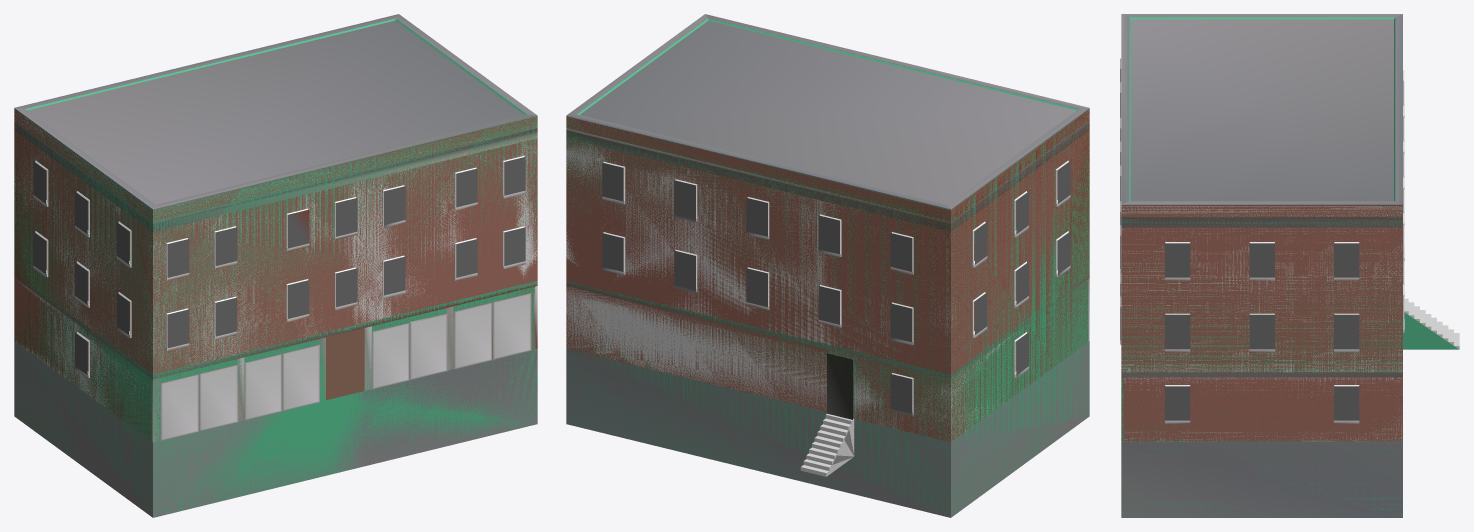
File: eca_bld_shop_town_f.dae
The picture shows the model from 3 angles, left to right: view 1: azimuth 30°, elevation 25°; view 2: azimuth 150°, elevation 25°; view 3: azimuth 270°, elevation 25°; orthographic projection.
Visible parts, largest first — view 1: ind_bld_a100, Colmesh-1, ind_bld_a60, ind_bld_a400; view 2: ind_bld_a100, ind_bld_a60, Colmesh-1, ind_bld_a400; view 3: ind_bld_a100, ind_bld_a60, ind_bld_a400, Colmesh-1.
Boxes of the visible parts, x1,y1,x2,y2 form: ind_bld_a100: [14, 14, 537, 517]; Colmesh-1: [14, 18, 537, 517]; ind_bld_a60: [14, 20, 537, 517]; ind_bld_a400: [14, 110, 537, 428]; ind_bld_a100: [566, 14, 1089, 517]; ind_bld_a60: [566, 20, 1089, 441]; Colmesh-1: [566, 18, 1089, 517]; ind_bld_a400: [566, 113, 1088, 476]; ind_bld_a100: [1121, 14, 1402, 517]; ind_bld_a60: [1121, 19, 1402, 441]; ind_bld_a400: [1120, 58, 1459, 441]; Colmesh-1: [1121, 17, 1458, 517].
Size of the model in its own units: 16.2 by 12.1 by 12.27.
